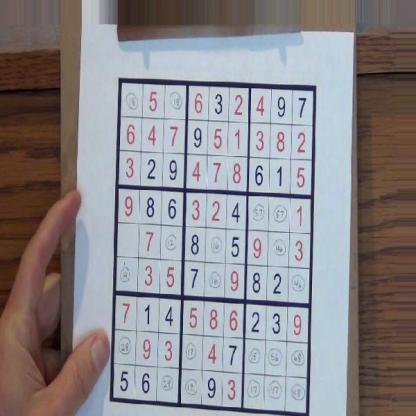sudoku: (106, 72, 318, 416)
